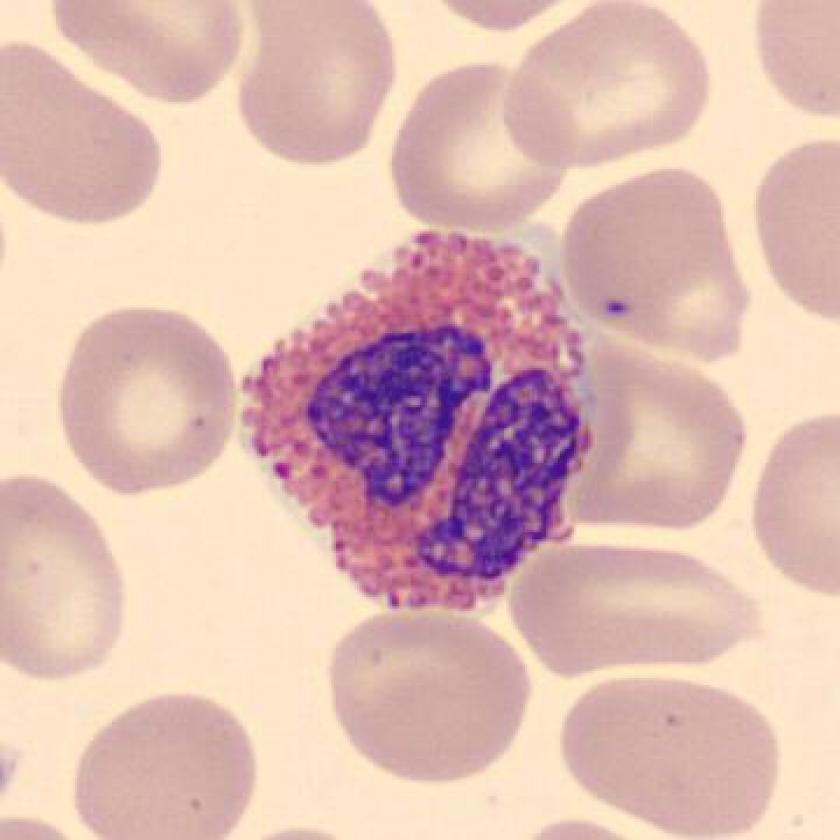eosinophil: (225, 218, 610, 626)
